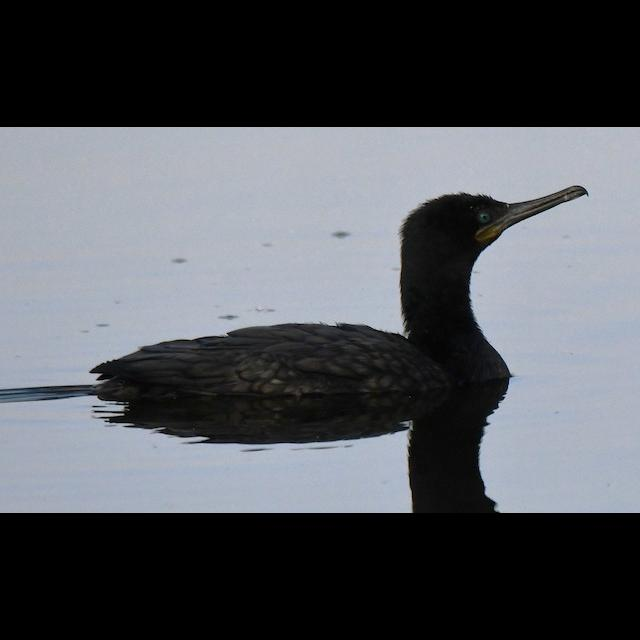cormorant: (10, 178, 592, 446)
